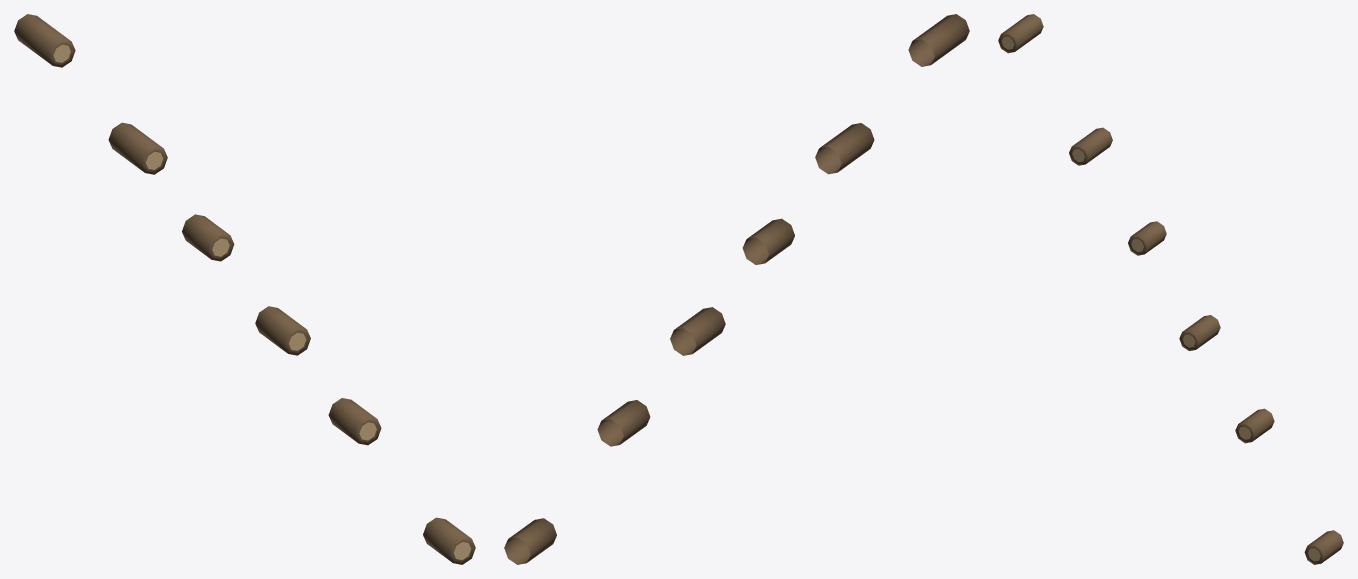
Rendered from rpgpp_ag_roof_support_01_6x5x3_end_01b_half_b.fbx.
3 views of the same model, side by side, from view 1: azimuth 30°, elevation 25°; view 2: azimuth 150°, elevation 25°; view 3: azimuth 330°, elevation 25° (orthographic). The views are drawn at different scales.
Visible parts, largest first — view 1: rpgpp_ag_roof_support_01_6x5x3_end_01b_half_b; view 2: rpgpp_ag_roof_support_01_6x5x3_end_01b_half_b; view 3: rpgpp_ag_roof_support_01_6x5x3_end_01b_half_b.
Boxes of the visible parts, left/top/right/bottom form: rpgpp_ag_roof_support_01_6x5x3_end_01b_half_b: left=14, top=14, right=475, bottom=564; rpgpp_ag_roof_support_01_6x5x3_end_01b_half_b: left=504, top=14, right=969, bottom=564; rpgpp_ag_roof_support_01_6x5x3_end_01b_half_b: left=998, top=14, right=1343, bottom=564.
Bounding box in the file's own units: 4.16 × 5.76 × 0.578.
